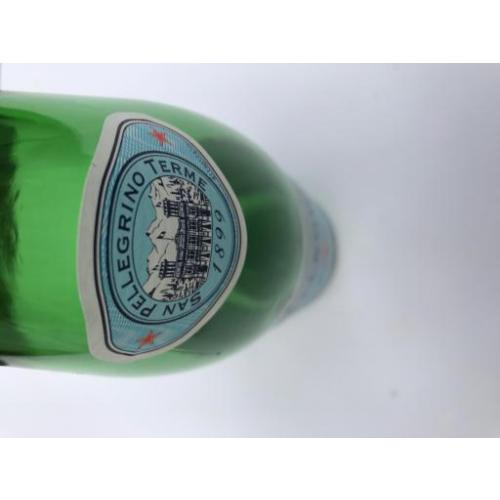glass: (0, 102, 336, 375)
